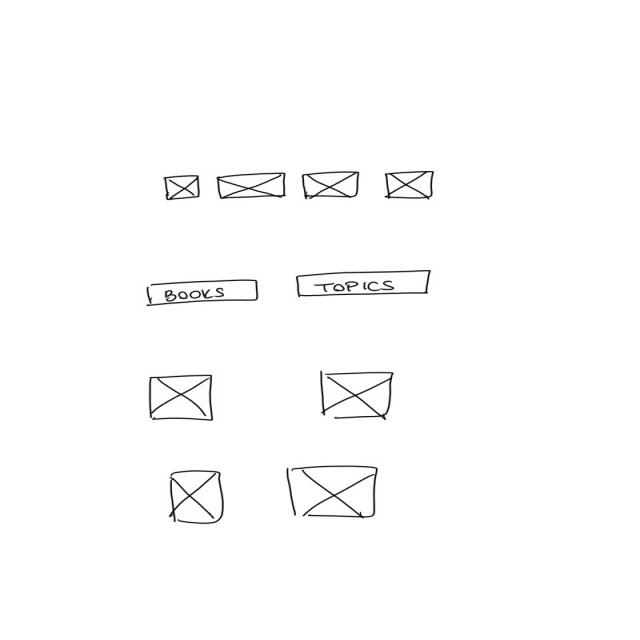button: (296, 269, 434, 298), (143, 278, 260, 308)
image: (286, 464, 379, 520), (318, 369, 394, 422), (144, 373, 217, 422), (168, 469, 224, 525), (216, 170, 288, 200), (302, 170, 362, 200), (384, 170, 436, 200), (164, 172, 202, 202)
